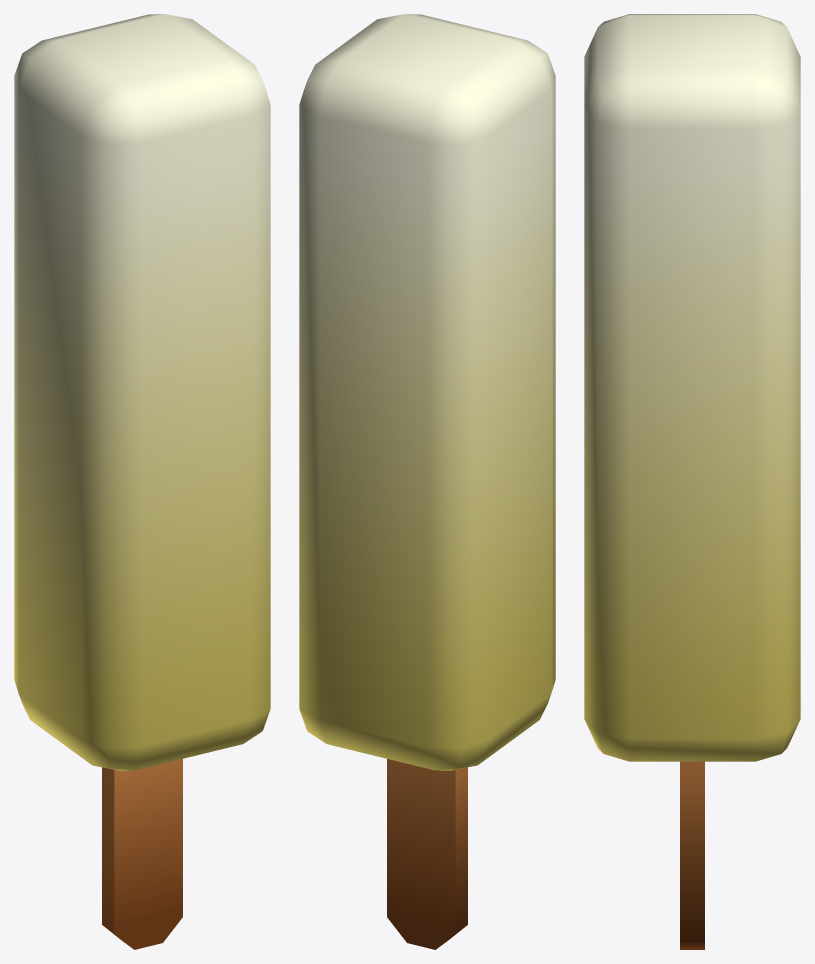
File: m_SquarePopsicle02.fbx
The picture shows the model from 3 angles, left to right: view 1: azimuth 30°, elevation 25°; view 2: azimuth 150°, elevation 25°; view 3: azimuth 270°, elevation 25°; orthographic projection.
Visible parts, largest first — view 1: m_SquarePopsicle02; view 2: m_SquarePopsicle02; view 3: m_SquarePopsicle02.
Boxes of the visible parts, bbox=[...] form: m_SquarePopsicle02: bbox=[14, 14, 270, 949]; m_SquarePopsicle02: bbox=[299, 14, 555, 949]; m_SquarePopsicle02: bbox=[584, 14, 800, 949].
Bounding box in the file's own units: 5 × 23.01 × 5.
